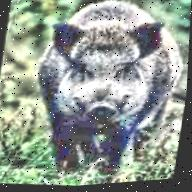boar: (18, 0, 192, 190)
